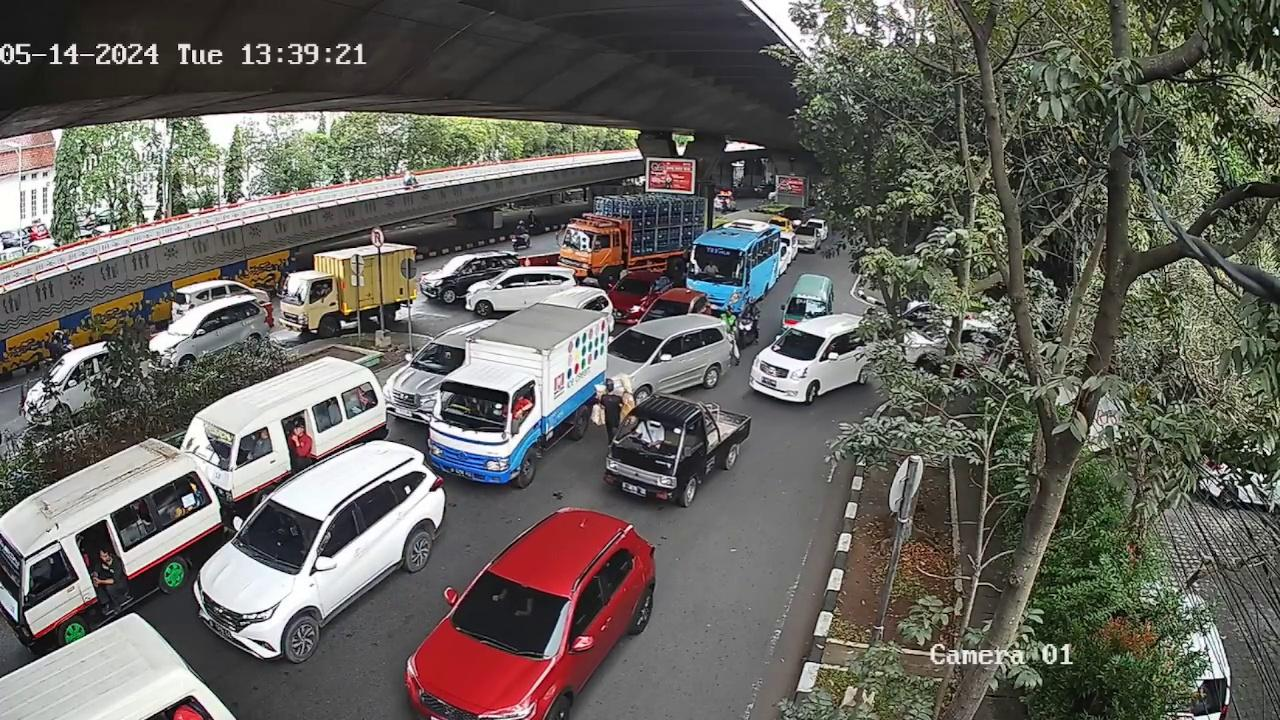pakai: (636, 421, 665, 448)
windshield: (451, 565, 573, 659), (234, 498, 330, 576), (437, 378, 536, 436), (176, 416, 242, 472), (614, 414, 682, 461), (607, 328, 663, 362), (774, 327, 827, 357), (415, 344, 467, 371)
